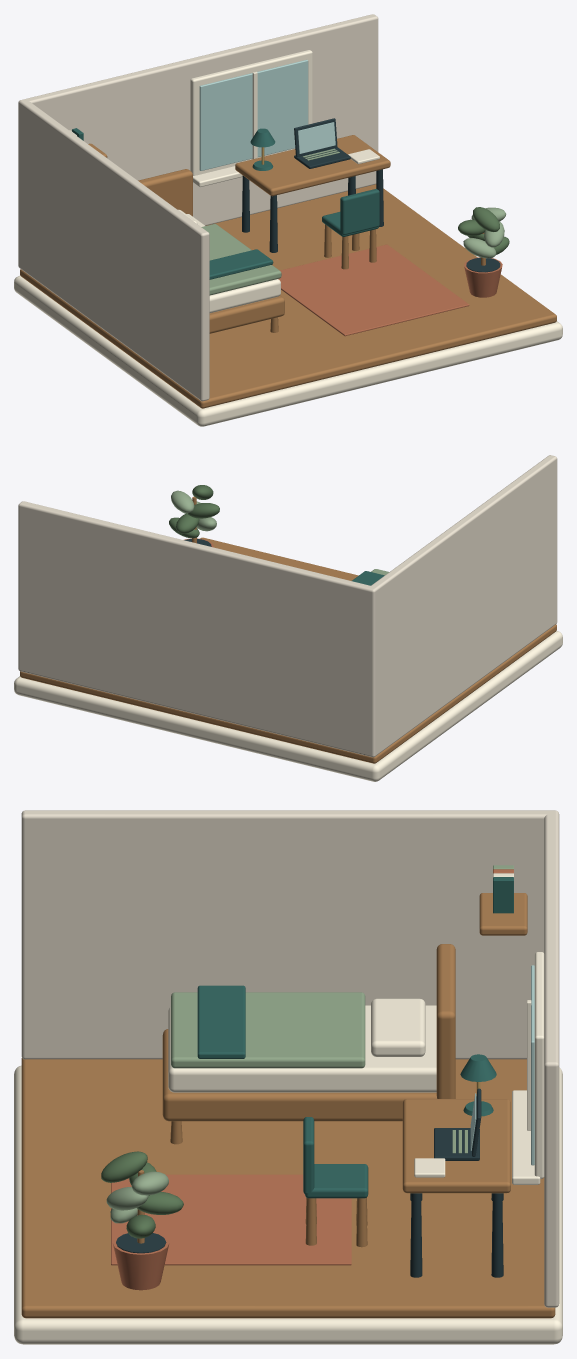
Rendered from room.glb.
The picture shows the model from 3 angles, top to bottom: view 1: azimuth 30°, elevation 25°; view 2: azimuth 150°, elevation 25°; view 3: azimuth 270°, elevation 25°; orthographic projection. The views are drawn at different scales.
Parts seen in each view (by area): view 1: side-wall, floor, back-wall, foundation, woven-rug, window-glass, desktop, window-frame, duvet, bed-frame, back, headboard (+6 smaller); view 2: back-wall, side-wall, foundation, floor; view 3: side-wall, floor, foundation, woven-rug, duvet, mattress, back-wall, bed-frame, desktop, folded-blanket, pillow, leaf (×4) (+13 smaller).
Part boxes in pixels (x1,y1,x2,y2): side-wall: (20,100,209,401); floor: (20,184,556,408); back-wall: (18,14,378,269); foundation: (14,275,562,426); woven-rug: (278,244,469,336); window-glass: (199,59,308,170); desktop: (235,135,390,196); window-frame: (190,50,312,175); duvet: (201,224,281,295); bed-frame: (209,295,284,333); back: (340,189,379,234); headboard: (138,169,192,216); back-wall: (18,501,377,757); side-wall: (371,455,557,754); foundation: (14,631,562,781); floor: (20,537,556,763); side-wall: (21,810,551,1059); floor: (21,1058,555,1318); foundation: (14,1065,562,1344); woven-rug: (111,1174,351,1265); duvet: (171,992,365,1068); mattress: (168,1005,436,1092); back-wall: (544,810,559,1307); bed-frame: (162,1029,437,1121); desktop: (402,1099,510,1193); folded-blanket: (197,985,245,1058); pillow: (371,998,425,1056); leaf (×4): (101,1151,183,1214).
Bounding box in the file's own units: 4.1 × 2.06 × 3.65.
